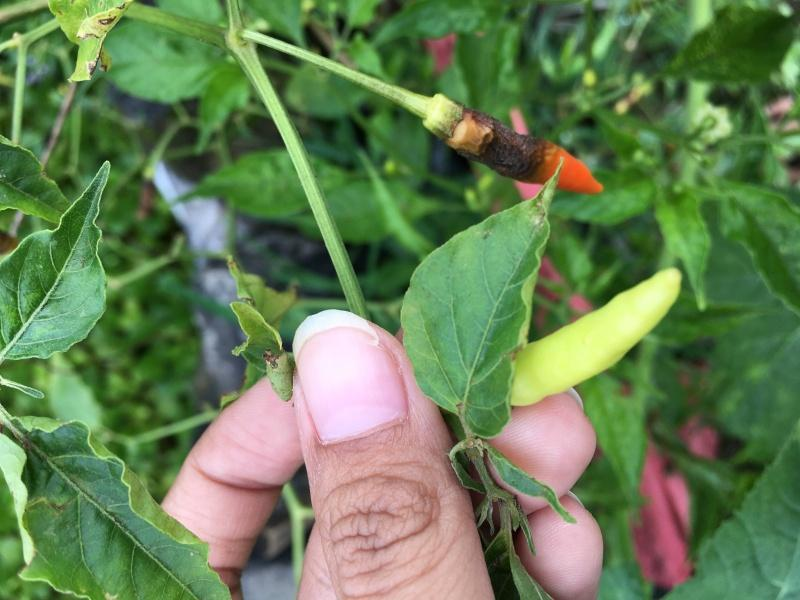antraknosa: (443, 105, 604, 197)
cabai_normal: (507, 268, 684, 410)
